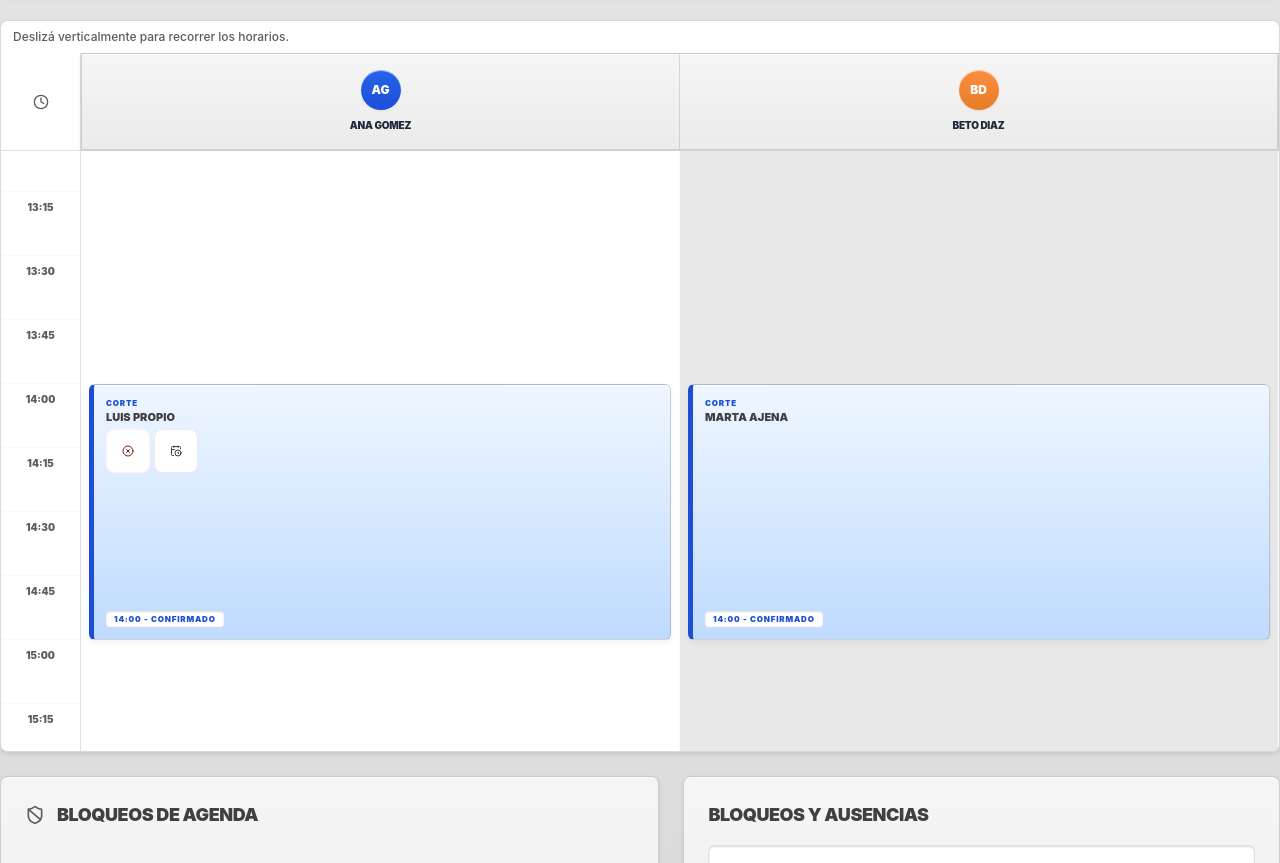
Scenario: CalendarContainer - cancelar y reprogramar (FF-31) › un turno que ya empezo explica que se completa y recarga la agenda (D-20260929-05)
(page scrolled)
Click the button named "Cancelar turno" at [128, 451], box x1=106 y1=429 x2=150 y2=473
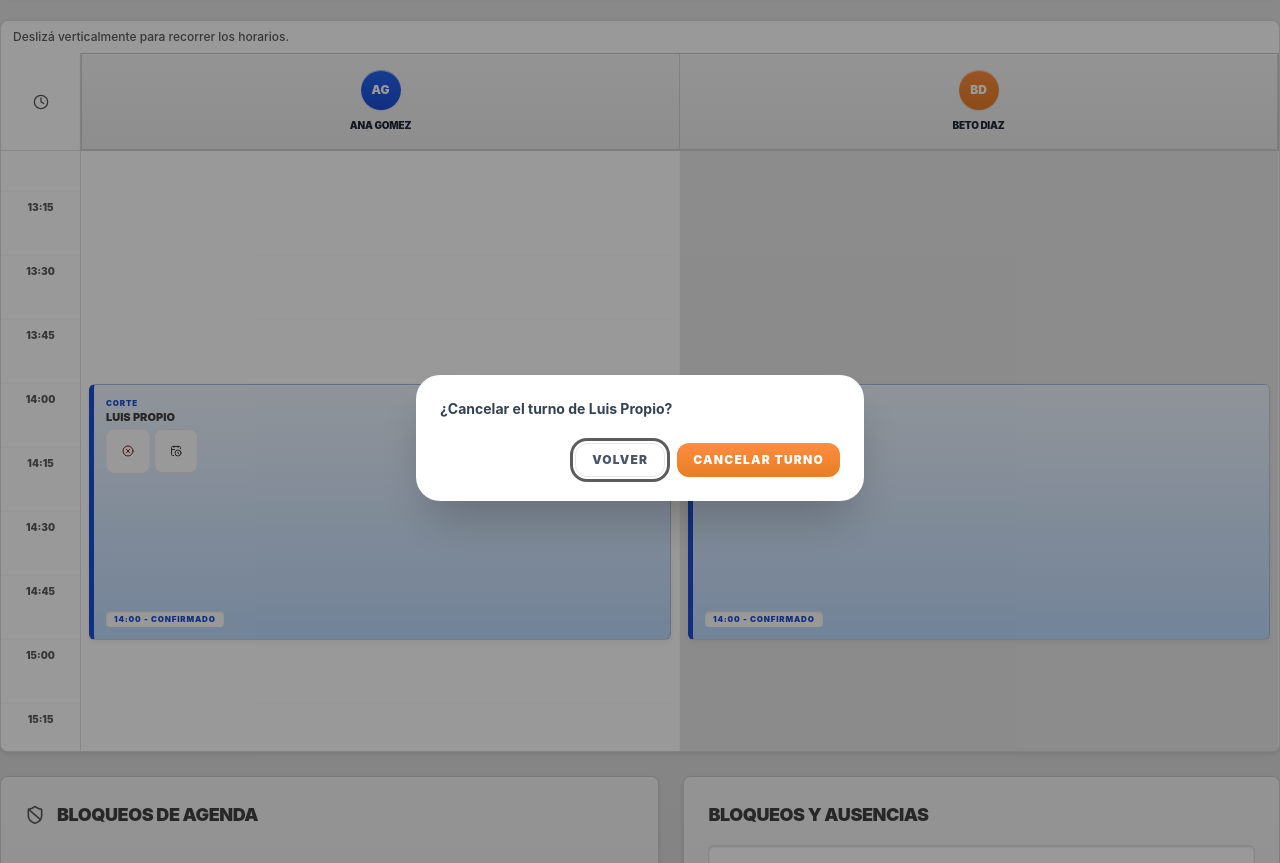
Click the button "Cancelar turno" at [759, 460], box x1=677 y1=443 x2=840 y2=477
(page scrolled)
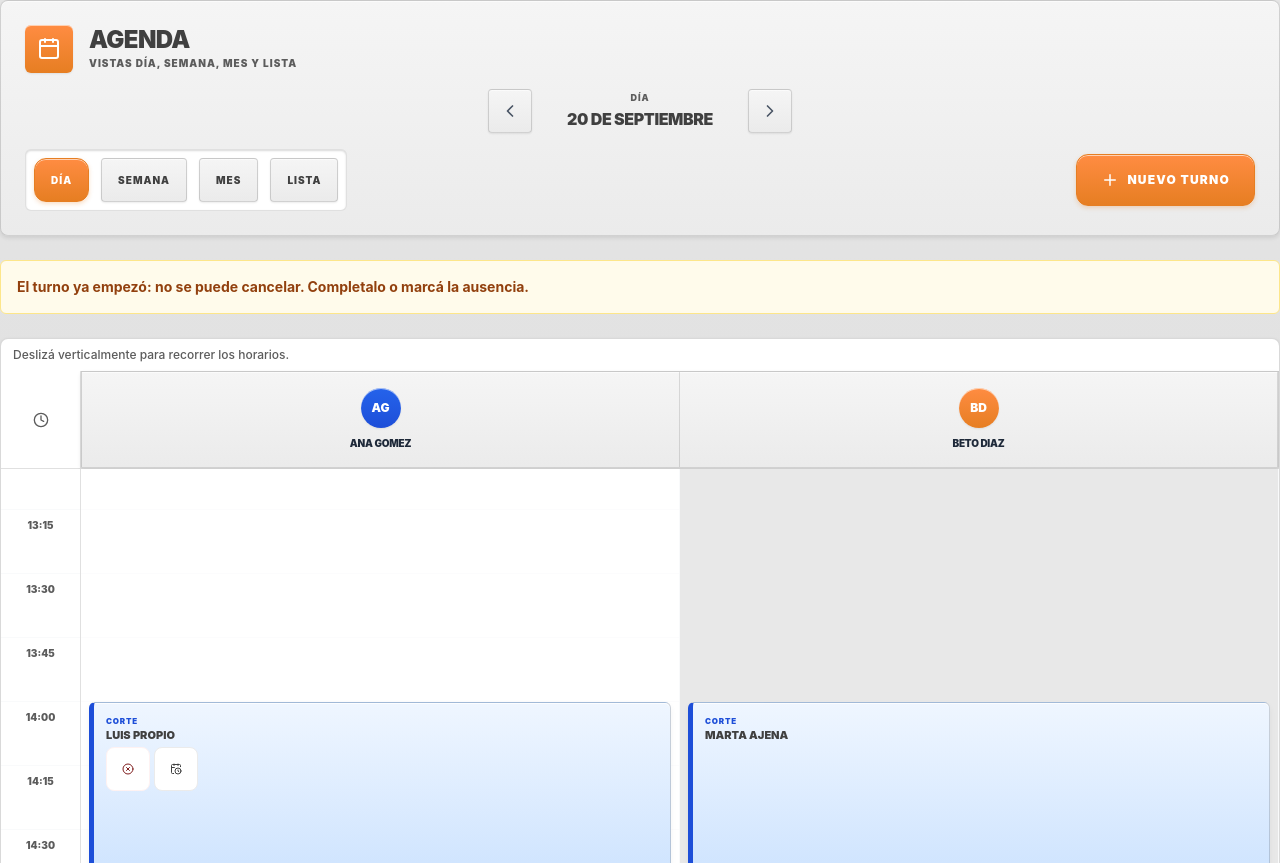
Check: the text "El turno ya empezó: no se puede cancelar. Completalo o marcá la ausencia." is shown, box x1=0 y1=260 x2=1279 y2=314
